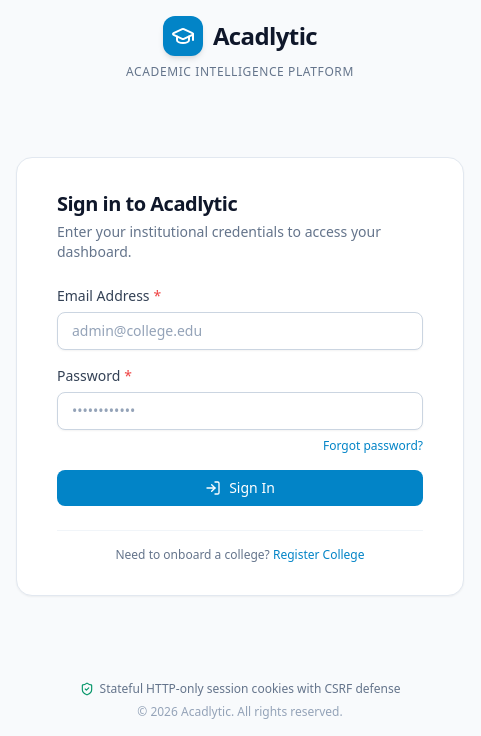
Test: Frontend Authentication Form State Persistence & Route Integrity › 7. preserves React Hook Form validation errors across tab switch and background refetch
Expected: the field labelled "Email Address*" is shown, [57,312,423,350]
Note: Submit without filling fields to trigger client-side validation errors
Click the button "Sign In". click: (240, 488)
box: [57,470,423,506]
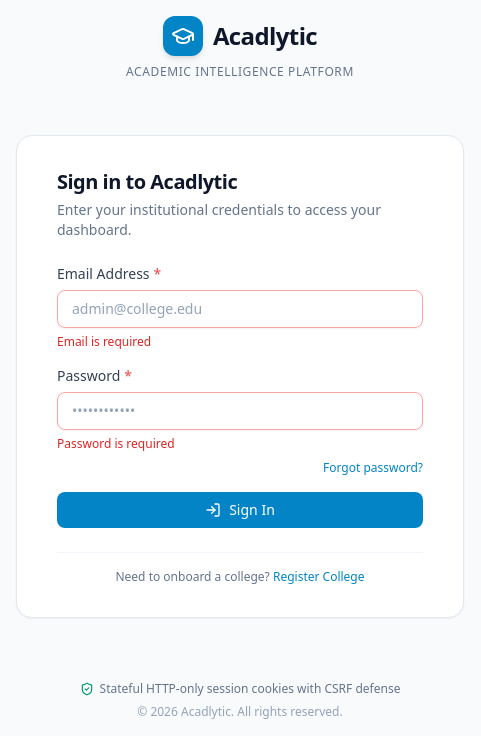
Expected: the text "Email is required" is shown, [57,333,151,350]
Expected: the text "Password is required" is shown, [57,435,175,452]
